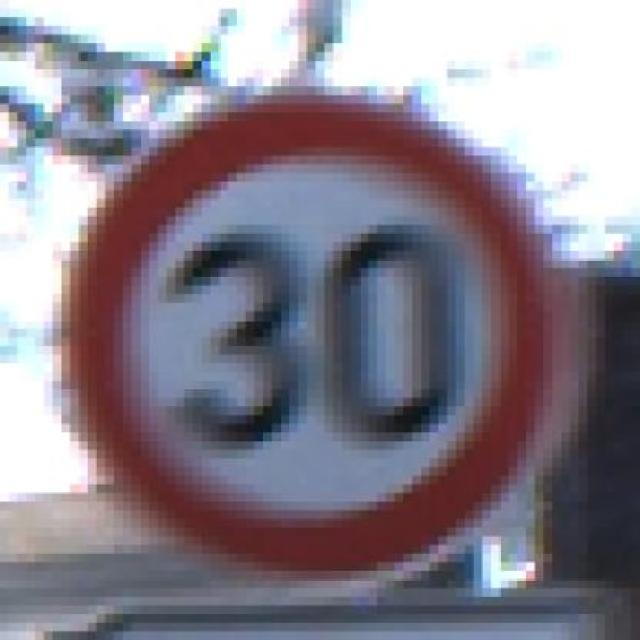Speed Limit 30 KMPh: (34, 52, 632, 597)
